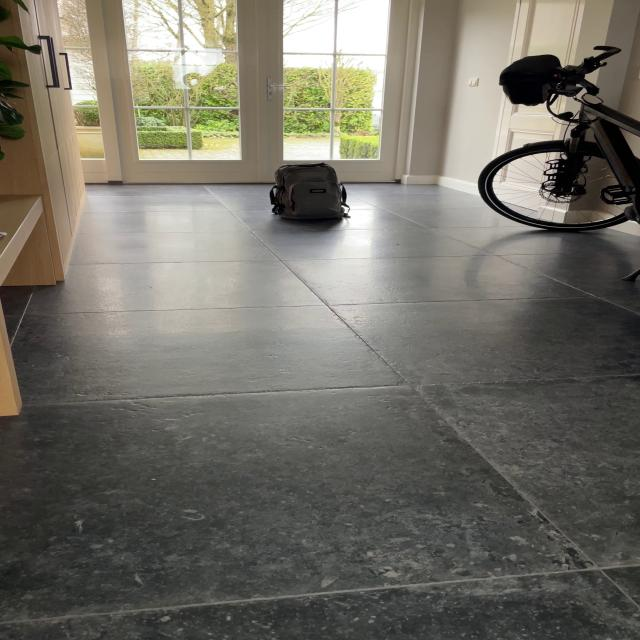backpack: (263, 160, 350, 223)
